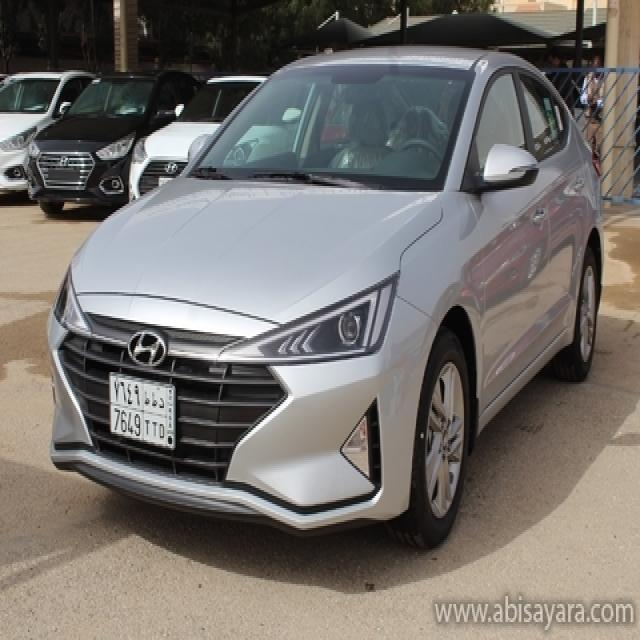license_plate: (108, 370, 179, 452)
